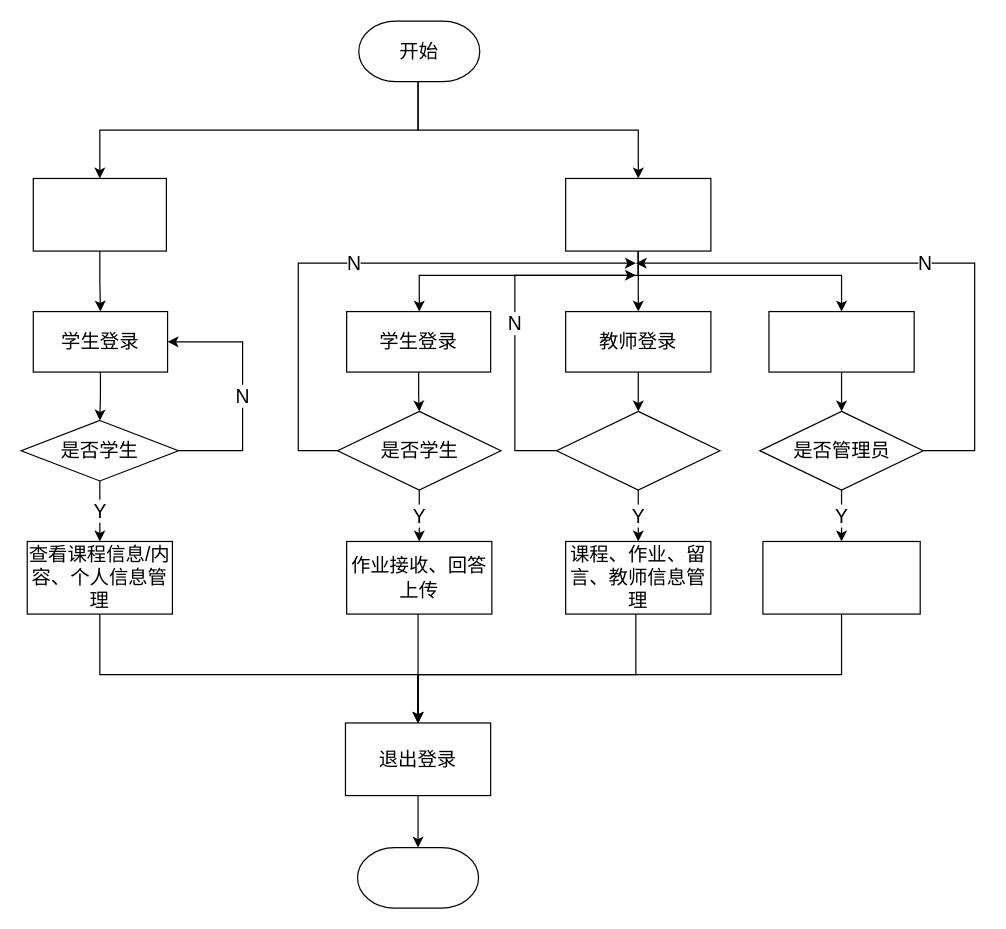
The diagram is 1006 pixels wide and 929 high, and some of its shapes have lost their labels. Here are the shapes that lost their labels. From the top down, the centre of each, then its label:
point 99,214: 访问前台首页
point 637,214: 进入后台登录
point 841,341: 管理员登录
point 637,450: 是否教师
point 841,577: 管理员信息管理、学生信息管理
point 417,877: 结束
